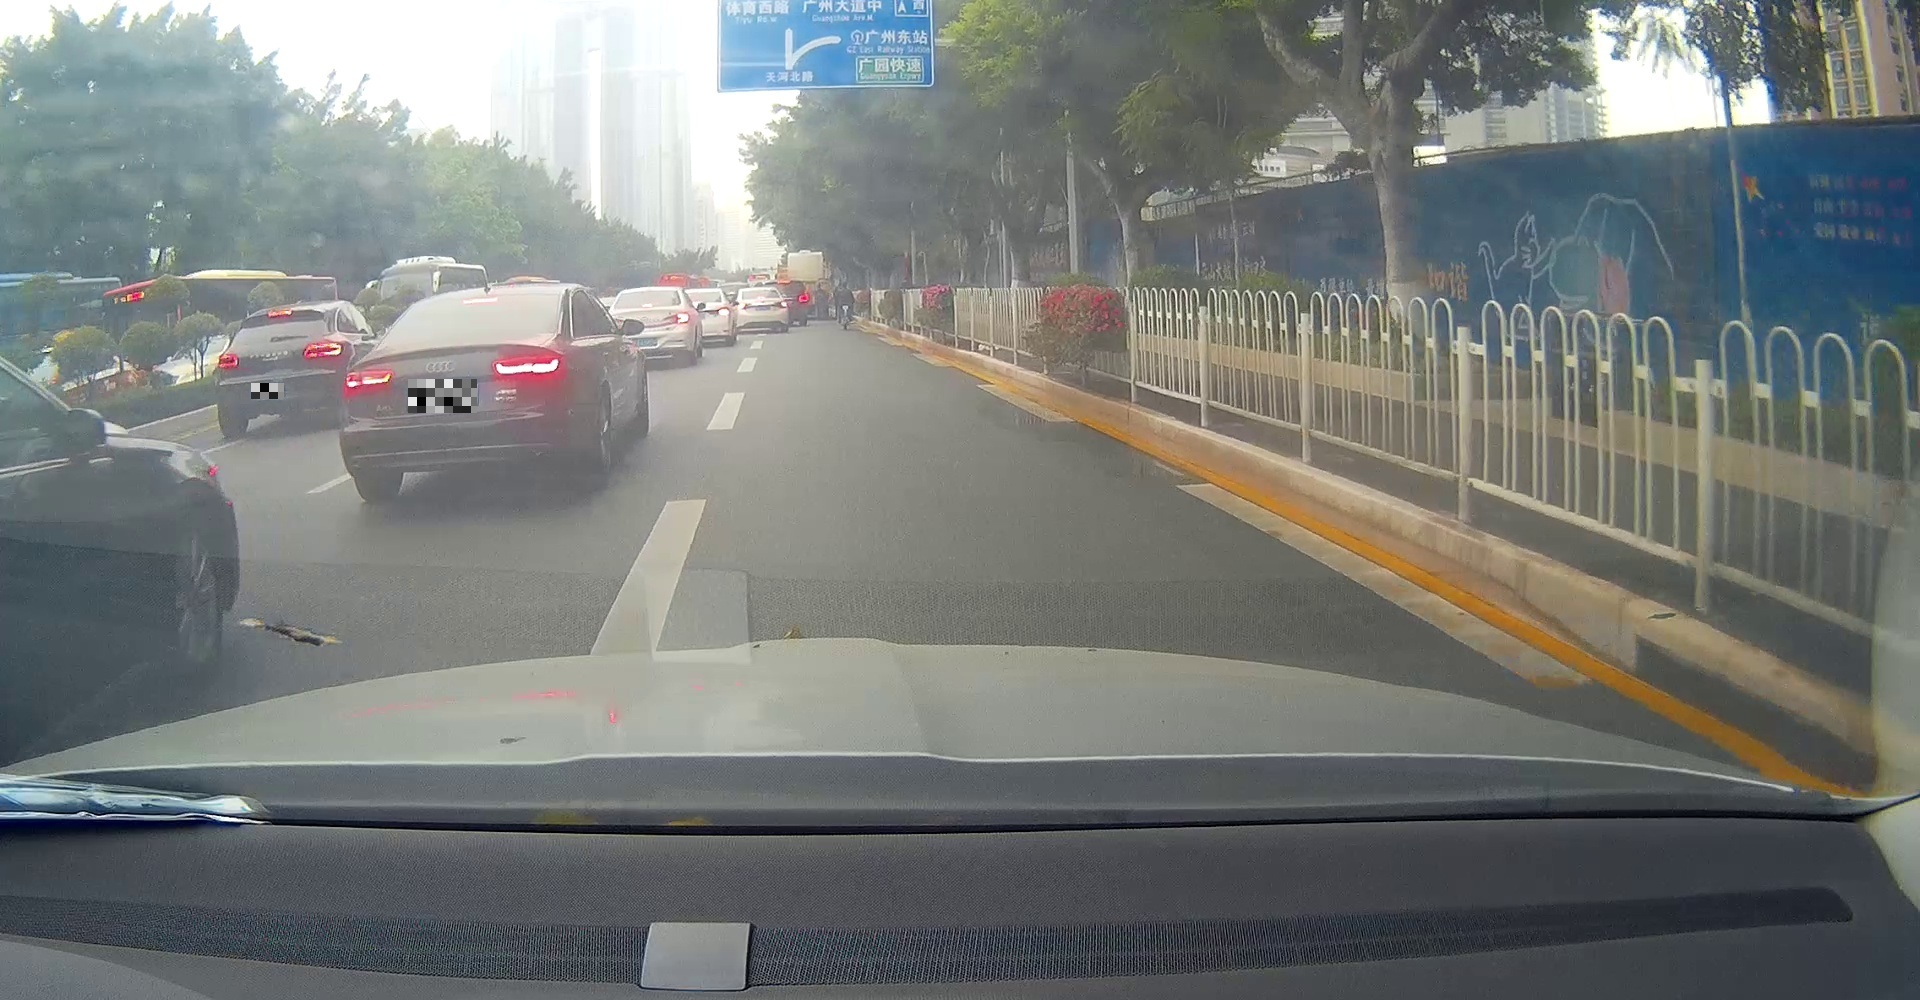L_light: (343, 369, 392, 396), (738, 303, 750, 310)
R_light: (491, 355, 565, 383), (775, 301, 789, 308)
T_light: (463, 296, 497, 305), (754, 294, 767, 299)
day-brake: (338, 286, 573, 500), (737, 287, 789, 332)
plate_1: (251, 383, 284, 398)
plate_2: (408, 379, 477, 412)
